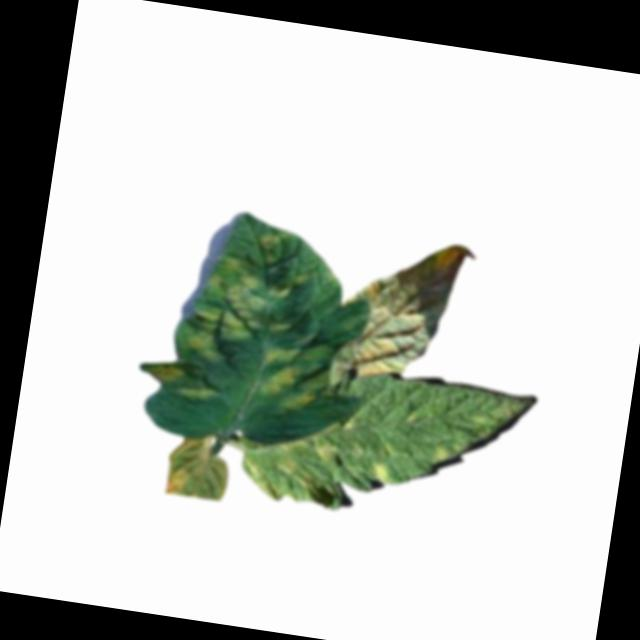Leaf_Mold: (333, 227, 466, 385), (183, 253, 306, 371), (242, 423, 341, 510), (253, 332, 333, 412), (161, 434, 233, 503), (142, 357, 215, 405), (426, 432, 454, 468), (364, 456, 395, 486), (258, 227, 284, 247)
